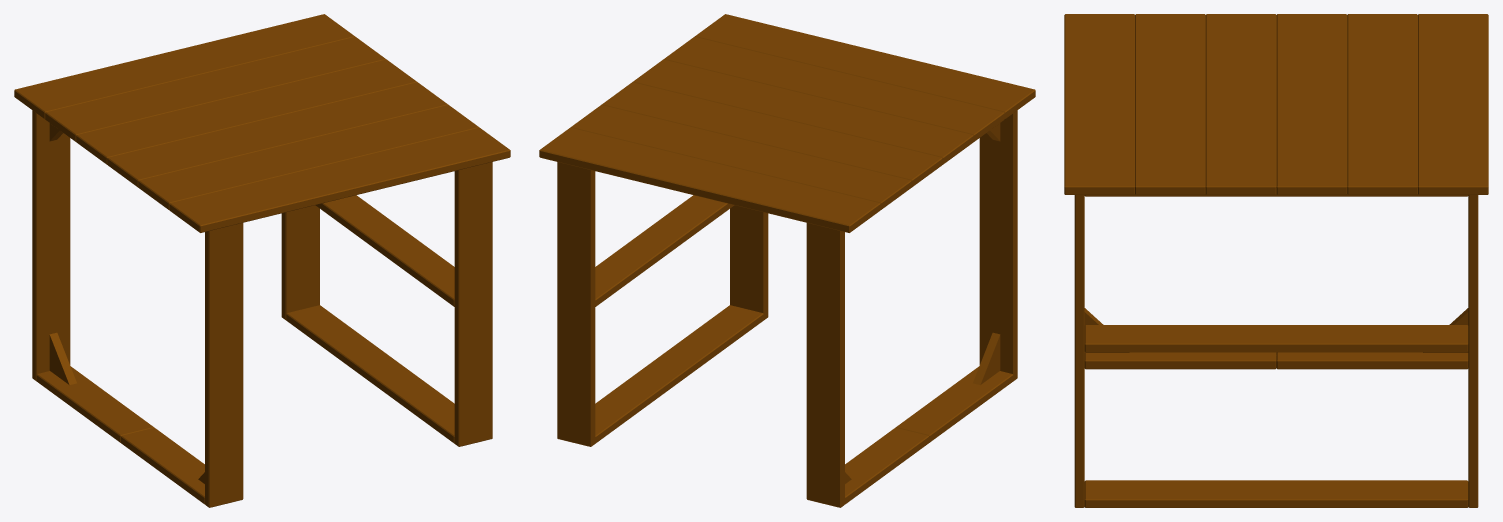
File: table1.glb
3 views of the same model, side by side, from view 1: azimuth 30°, elevation 25°; view 2: azimuth 150°, elevation 25°; view 3: azimuth 270°, elevation 25° (orthographic). The views are drawn at different scales.
Parts seen in each view (by area): view 1: board1.01, board4.01, board2.02, board1.03, board1.04, board1.05, board1.06, board1.02, board3.01, board2.13, board2.12, board2.01 (+3 smaller); view 2: board1.06, board3.01, board2.01, board1.01, board1.02, board1.03, board1.04, board1.05, board4.01, board2.13, board2.12, board2.02 (+3 smaller); view 3: board1.03, board1.04, board1.02, board1.05, board1.01, board1.06, board2.12, board2.13, board2.01, board2.02, board3.03, board4.03 (+1 smaller).
Boxes of the visible parts, x1,y1,x2,y2 form: board1.01: (169, 127, 510, 232); board4.01: (205, 223, 243, 507); board2.02: (454, 162, 492, 446); board1.03: (107, 82, 448, 187); board1.04: (76, 59, 417, 164); board1.05: (45, 36, 386, 141); board1.06: (14, 14, 354, 119); board1.02: (138, 105, 479, 210); board3.01: (32, 110, 70, 381); board2.13: (286, 305, 454, 443); board2.12: (315, 195, 454, 306); board2.01: (281, 205, 319, 320); board1.06: (539, 127, 880, 232); board3.01: (806, 223, 844, 507); board2.01: (557, 162, 595, 446); board1.01: (695, 14, 1035, 119); board1.02: (663, 36, 1004, 141); board1.03: (632, 59, 973, 164); board1.04: (601, 82, 942, 187); board1.05: (570, 105, 911, 210); board4.01: (979, 110, 1017, 381); board2.13: (595, 305, 763, 443); board2.12: (595, 195, 734, 306); board2.02: (730, 205, 768, 320); board1.03: (1205, 14, 1276, 194); board1.04: (1276, 14, 1347, 194); board1.02: (1135, 14, 1205, 194); board1.05: (1347, 14, 1417, 194); board1.01: (1064, 14, 1134, 194); board1.06: (1418, 14, 1488, 194); board2.12: (1084, 325, 1468, 352); board2.13: (1084, 480, 1468, 507); board2.01: (1468, 195, 1478, 507); board2.02: (1074, 195, 1084, 507); board3.03: (1276, 352, 1468, 369); board4.03: (1084, 352, 1276, 369).
Size of the model in its own units: 0.81 by 0.72 by 0.84.
